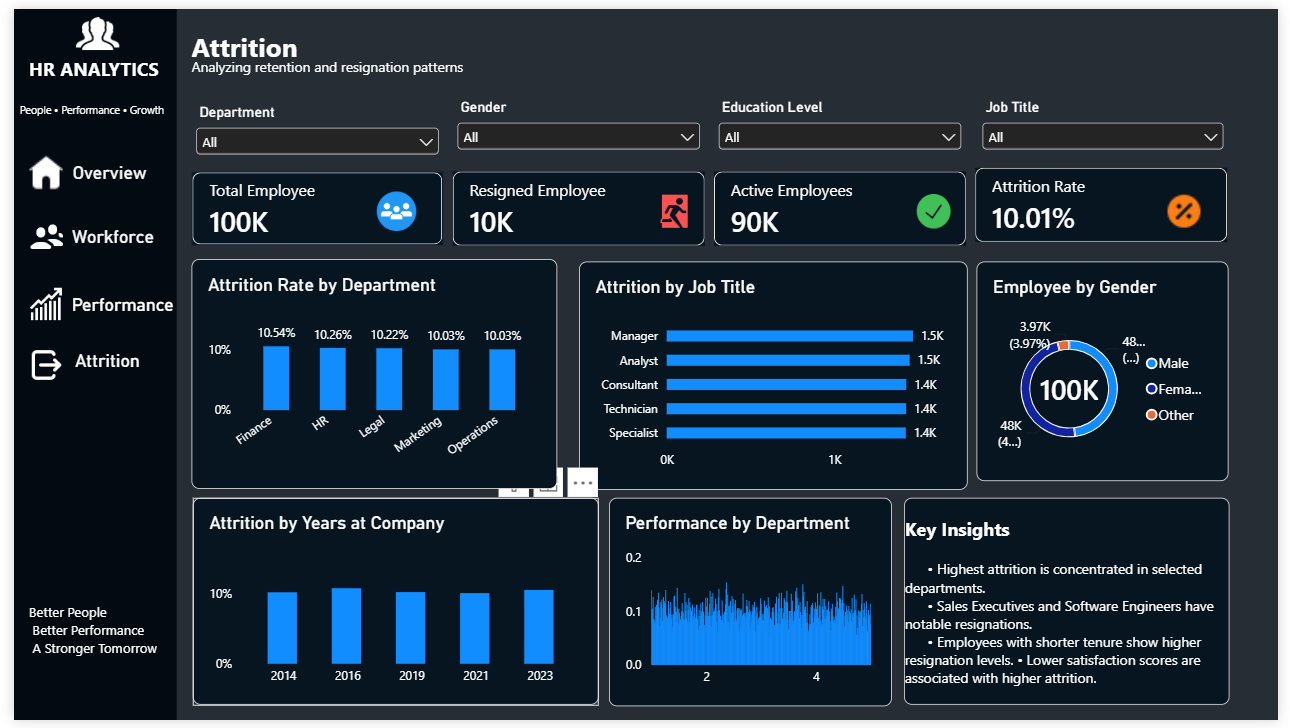

This screenshot's page, from the dashboard's own definition file:
{"tool":"powerbi","page":{"name":"Attrition","canvas":[1280,720],"ordinal":3},"visuals":[{"type":"shape","box":[0,0,165,720],"z":0},{"type":"textbox","box":[15.1,48,134.5,42.5],"z":1000},{"type":"textbox","box":[0,90.6,164.7,32.9],"z":2000},{"type":"actionButton","title":"Overview","box":[42.6,155.5,107.7,35.9],"z":3000},{"type":"actionButton","title":"Workforce","box":[47.4,220.1,106.7,31.1],"z":4000},{"type":"actionButton","title":"Performance","box":[54.1,289,111.5,26.8],"z":5000},{"type":"actionButton","title":"Attrition","box":[54.3,345.7,80.2,39.5],"z":6000},{"type":"textbox","box":[180,20,349.9,38.4],"z":7000},{"type":"textbox","box":[179.8,48,304.6,42.5],"z":8000},{"type":"slicer","fields":{"Values":["Extended_Employee_Performance_and_Productivity_Data.Department"]},"box":[179.9,96.2,255.2,64.5],"z":9000},{"type":"slicer","fields":{"Values":["Extended_Employee_Performance_and_Productivity_Data.Gender"]},"box":[444.6,90.6,255.2,64.5],"z":10000},{"type":"slicer","fields":{"Values":["Extended_Employee_Performance_and_Productivity_Data.Education_Level"]},"box":[709.4,90.6,255.2,64.5],"z":11000},{"type":"slicer","fields":{"Values":["Extended_Employee_Performance_and_Productivity_Data.Job_Title"]},"box":[975.6,90.6,253.9,64.5],"z":12000},{"type":"cardVisual","fields":{"Data":["CountNonNull(Extended_Employee_Performance_and_Productivity_Data.Employee_ID)"]},"box":[179.8,164.7,255.2,75.5],"z":13000},{"type":"cardVisual","fields":{"Data":["Sum(Extended_Employee_Performance_and_Productivity_Data.Resigned Employee)"]},"box":[444.6,164.7,255.2,75.5],"z":14000},{"type":"cardVisual","fields":{"Data":["Extended_Employee_Performance_and_Productivity_Data.Active Employees"]},"box":[709.4,164.7,255.2,75.5],"z":15000},{"type":"barChart","title":"Attrition by Job Title","fields":{"Category":["Extended_Employee_Performance_and_Productivity_Data.Job_Title"],"Y":["Sum(Extended_Employee_Performance_and_Productivity_Data.Resigned Employee)"]},"box":[571.6,255.1,393.4,230.9],"z":16000},{"type":"clusteredColumnChart","title":"Performance by Department","fields":{"Category":["Extended_Employee_Performance_and_Productivity_Data.Employee_Satisfaction_Score"],"Y":["Avg(Extended_Employee_Performance_and_Productivity_Data.Resigned Employee)"]},"box":[602.9,494.6,286.5,211],"z":17000},{"type":"columnChart","title":"Attrition by Years at Company","fields":{"Category":["Extended_Employee_Performance_and_Productivity_Data.Hire_Date.Variation.Date Hierarchy.Year"],"Y":["Extended_Employee_Performance_and_Productivity_Data.Attrition Rate"]},"box":[181,494.6,411.4,209.9],"z":18000},{"type":"textbox","box":[15.1,599.7,144.1,120.8],"z":19000},{"type":"textbox","title":"    Key Insights","box":[900.8,494.6,329.3,209.5],"z":20000},{"type":"image","box":[10,145.9,44.5,39.7],"z":22000},{"type":"image","box":[15.3,211,35.7,40],"z":23000},{"type":"image","box":[10,282.8,44.5,33],"z":24000},{"type":"image","box":[2.5,340.7,60,40],"z":25000},{"type":"image","box":[59.2,4.2,50.7,43.7],"z":26000},{"type":"columnChart","title":"Attrition Rate by Department","fields":{"Category":["Extended_Employee_Performance_and_Productivity_Data.Department"],"Y":["Extended_Employee_Performance_and_Productivity_Data.Attrition Rate"]},"box":[179.8,253.4,370.4,232.8],"z":27000},{"type":"cardVisual","fields":{"Data":["Extended_Employee_Performance_and_Productivity_Data.Attrition Rate"]},"box":[973.6,160.5,255.2,75.5],"z":30000},{"type":"donutChart","title":"Employee by Gender","fields":{"Category":["Extended_Employee_Performance_and_Productivity_Data.Gender"],"Y":["CountNonNull(Extended_Employee_Performance_and_Productivity_Data.Employee_ID)"]},"box":[975,255.1,255.1,222.4],"z":30001},{"type":"image","box":[356.3,185.3,60,40],"z":30002},{"type":"image","box":[651.4,185.3,34.2,40],"z":30003},{"type":"image","box":[900.8,185.3,60,39.9],"z":30004},{"type":"image","box":[1154.6,185.3,60,40],"z":30005}]}

Visuals, with their boxes in screenshot pixels (x1, y1, x2, y2), scaled from the page's 1280x720 canvas onto the 1290x728 screenshot:
shape: 0:0:166:727
textbox: 15:49:151:92
textbox: 0:92:166:125
"Overview" actionButton: 43:157:151:194
"Workforce" actionButton: 48:223:155:254
"Performance" actionButton: 55:292:167:319
"Attrition" actionButton: 55:350:136:389
textbox: 181:20:534:59
textbox: 181:49:488:92
slicer - Extended_Employee_Performance_and_Productivity_Data.Department: 181:97:438:162
slicer - Extended_Employee_Performance_and_Productivity_Data.Gender: 448:92:705:157
slicer - Extended_Employee_Performance_and_Productivity_Data.Education_Level: 715:92:972:157
slicer - Extended_Employee_Performance_and_Productivity_Data.Job_Title: 983:92:1239:157
cardVisual - CountNonNull(Extended_Employee_Performance_and_Productivity_Data.Employee_ID): 181:167:438:243
cardVisual - Sum(Extended_Employee_Performance_and_Productivity_Data.Resigned Employee): 448:167:705:243
cardVisual - Extended_Employee_Performance_and_Productivity_Data.Active Employees: 715:167:972:243
"Attrition by Job Title" barChart: 576:258:973:491
"Performance by Department" clusteredColumnChart: 608:500:896:713
"Attrition by Years at Company" columnChart: 182:500:597:712
textbox: 15:606:160:727
"    Key Insights" textbox: 908:500:1240:712
image: 10:148:55:188
image: 15:213:51:254
image: 10:286:55:319
image: 3:344:63:385
image: 60:4:111:48
"Attrition Rate by Department" columnChart: 181:256:554:492
cardVisual - Extended_Employee_Performance_and_Productivity_Data.Attrition Rate: 981:162:1238:239
"Employee by Gender" donutChart: 983:258:1240:483
image: 359:187:420:228
image: 656:187:691:228
image: 908:187:968:228
image: 1164:187:1224:228
